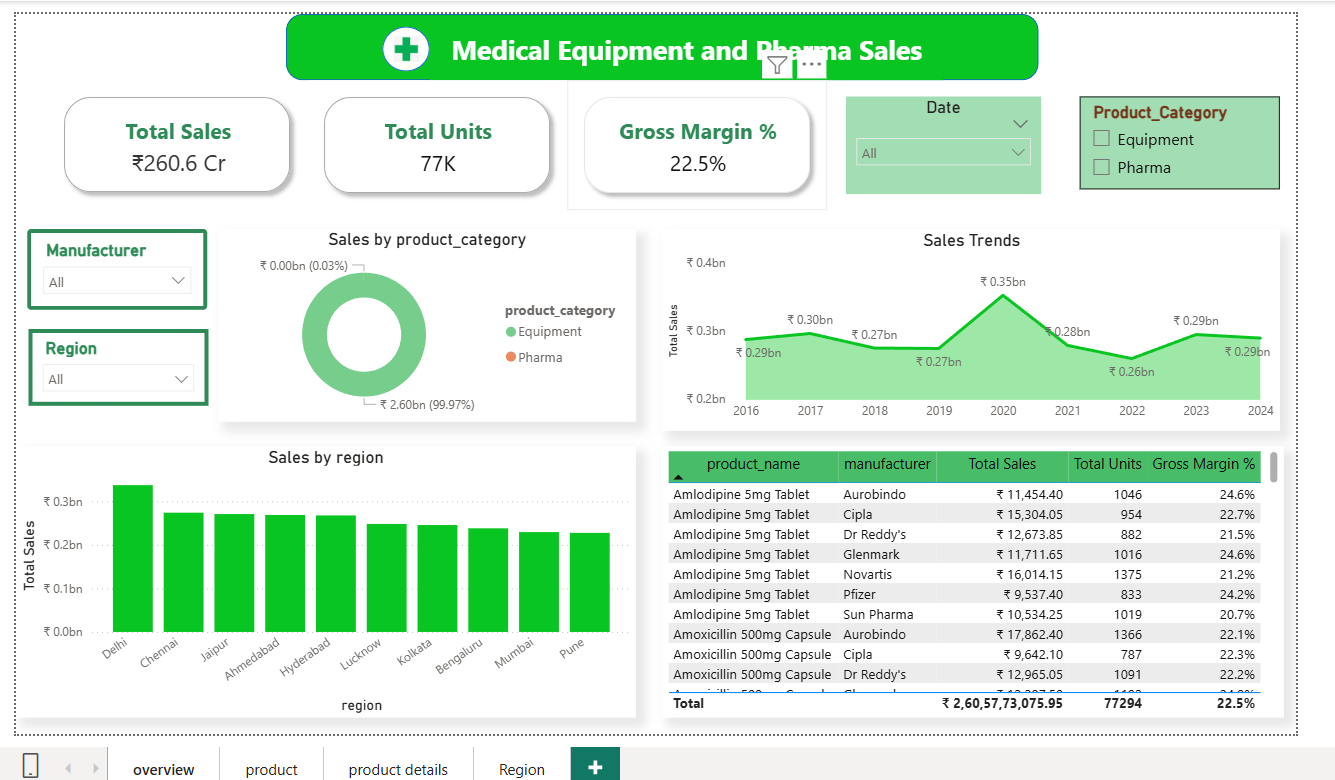

The page's visual inventory and layout, read from the dashboard file:
{"tool":"powerbi","page":{"name":"overview","canvas":[1280,720],"ordinal":0},"visuals":[{"type":"cardVisual","fields":{"Data":["sales.Total Sales (Cr Text)"]},"box":[31.8,66,260.5,129.6],"z":0},{"type":"shape","box":[270,0,752.5,66.2],"z":1000},{"type":"textbox","box":[413.8,12.5,513.8,53.8],"z":2000},{"type":"cardVisual","fields":{"Data":["sales.Total Units"]},"box":[291.2,66.2,260,130],"z":3000},{"type":"cardVisual","fields":{"Data":["sales.Gross Margin %"]},"box":[551.2,66.2,260,130],"z":4000},{"type":"shape","box":[366.2,12.5,47.5,45],"z":5000},{"type":"image","box":[368.8,17.5,42.5,35],"z":6000},{"type":"lineChart","title":"Sales Trends","fields":{"Category":["sales.date.Variation.Date Hierarchy.Year","sales.date.Variation.Date Hierarchy.Quarter","sales.date.Variation.Date Hierarchy.Month","sales.date.Variation.Date Hierarchy.Day"],"Y":["sales.Total Sales"]},"box":[646.2,215,617.5,201.2],"z":7000},{"type":"clusteredColumnChart","title":" Sales by region","fields":{"Category":["sales.region"],"Y":["sales.Total Sales"]},"box":[0,432.9,620,271.5],"z":8000},{"type":"donutChart","title":"Sales by product_category","fields":{"Category":["sales.product_category"],"Y":["sales.Total Sales"]},"box":[202.5,215,417.5,192.5],"z":9000},{"type":"tableEx","fields":{"Values":["sales.product_name","sales.manufacturer","sales.Total Sales","sales.Total Units","sales.Gross Margin %"]},"box":[646.2,432.5,621.2,271.2],"z":10000},{"type":"slicer","fields":{"Values":["sales.region"]},"box":[12.2,315.5,179.8,77],"z":11000},{"type":"slicer","fields":{"Values":["sales.manufacturer"]},"box":[11,215.2,179.8,80.7],"z":12000},{"type":"slicer","title":"Date","fields":{"Values":["sales.date"]},"box":[830,82.5,195,97.5],"z":13000},{"type":"slicer","fields":{"Values":["sales.product_category"]},"box":[1063.8,82.5,200,92.5],"z":16000}]}

Visuals, with their boxes on the page's 1280x720 design canvas (x1, y1, x2, y2). These are canvas units, not pixel positions in the 1335x780 screenshot, which may show the page scaled, cropped or inside an application window:
cardVisual - sales.Total Sales (Cr Text): {"left": 32, "top": 66, "right": 292, "bottom": 196}
shape: {"left": 270, "top": 0, "right": 1022, "bottom": 66}
textbox: {"left": 414, "top": 12, "right": 928, "bottom": 66}
cardVisual - sales.Total Units: {"left": 291, "top": 66, "right": 551, "bottom": 196}
cardVisual - sales.Gross Margin %: {"left": 551, "top": 66, "right": 811, "bottom": 196}
shape: {"left": 366, "top": 12, "right": 414, "bottom": 58}
image: {"left": 369, "top": 18, "right": 411, "bottom": 52}
"Sales Trends" lineChart: {"left": 646, "top": 215, "right": 1264, "bottom": 416}
" Sales by region" clusteredColumnChart: {"left": 0, "top": 433, "right": 620, "bottom": 704}
"Sales by product_category" donutChart: {"left": 202, "top": 215, "right": 620, "bottom": 408}
tableEx - sales.product_name x sales.manufacturer: {"left": 646, "top": 432, "right": 1267, "bottom": 704}
slicer - sales.region: {"left": 12, "top": 316, "right": 192, "bottom": 392}
slicer - sales.manufacturer: {"left": 11, "top": 215, "right": 191, "bottom": 296}
"Date" slicer: {"left": 830, "top": 82, "right": 1025, "bottom": 180}
slicer - sales.product_category: {"left": 1064, "top": 82, "right": 1264, "bottom": 175}
